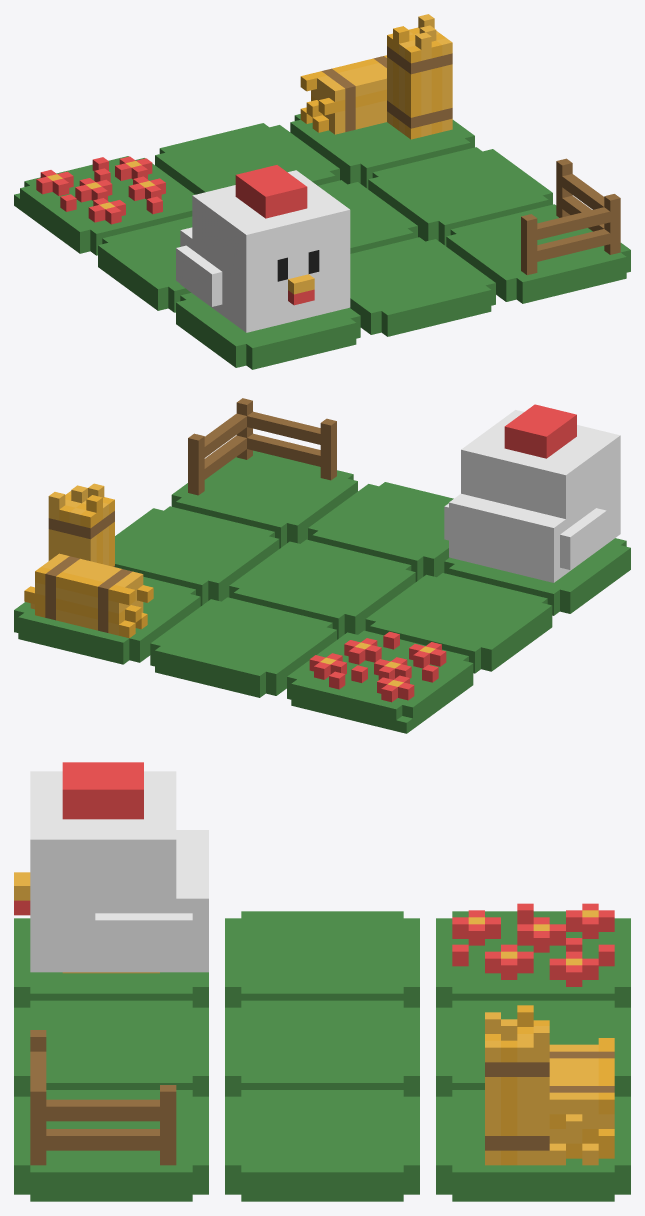
The model's file is hard_one_tile.obj.
The picture shows the model from 3 angles, top to bottom: view 1: azimuth 30°, elevation 25°; view 2: azimuth 150°, elevation 25°; view 3: azimuth 270°, elevation 25°; orthographic projection. The views are drawn at different scales.
Bounding box in the file's own units: 3.8 × 1.4 × 3.8.
1 material, 1 textured.
